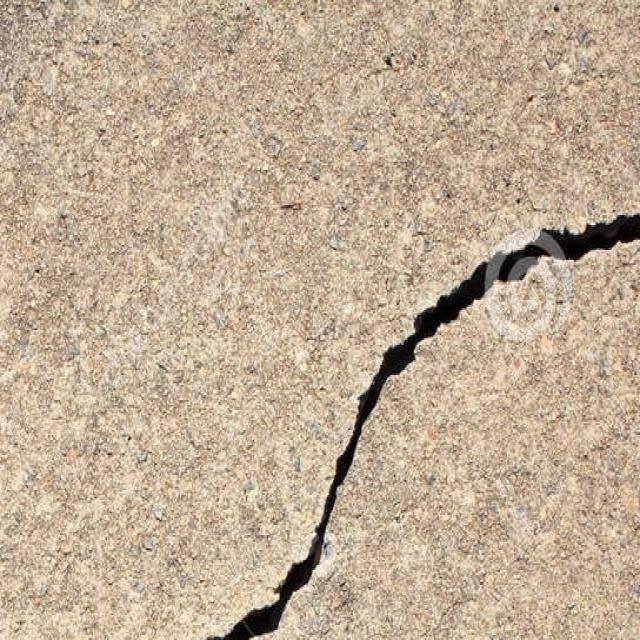Diagonal: (161, 212, 640, 632)
